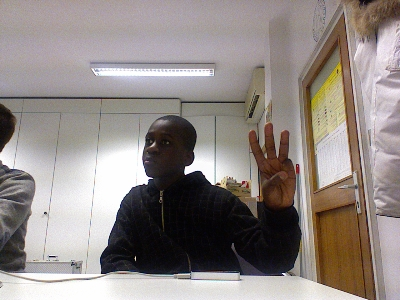三分: (247, 120, 296, 209)
